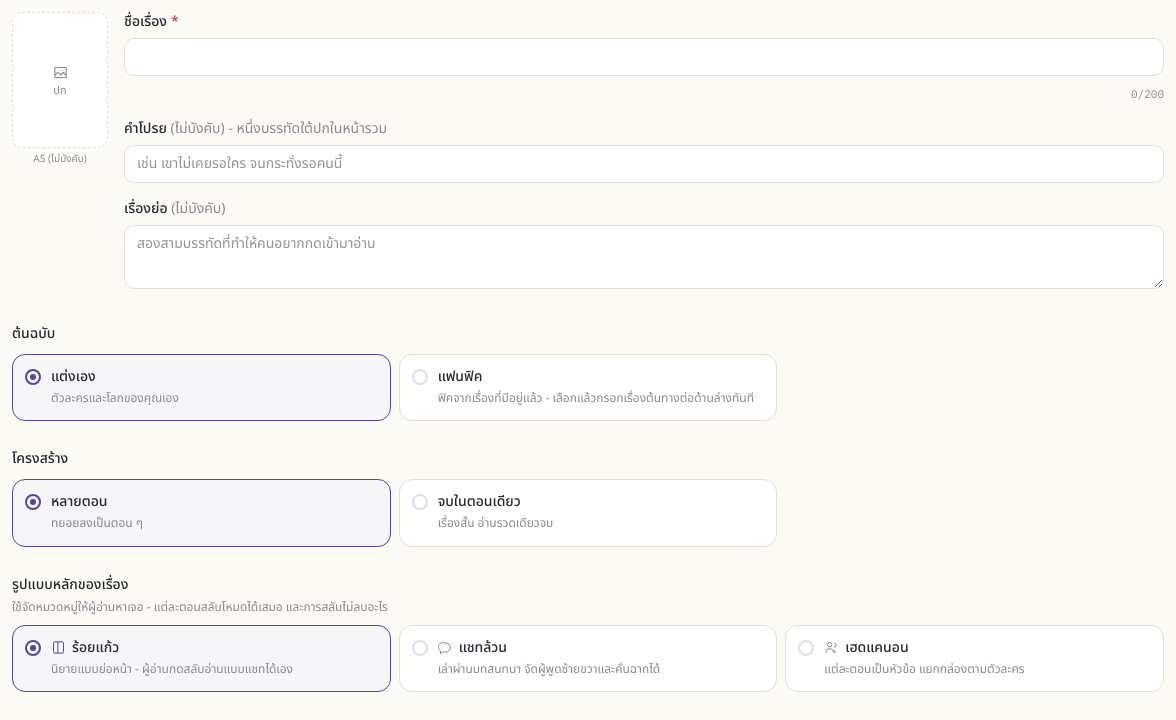
the source of a fanfiction › opens the source and ship questions only for แฟนฟิค
expect the field labelled "เขียนจากเรื่องอะไร" is not shown: met
Click the radio button labelled "แฟนฟิค" at (588, 387), box [399, 354, 777, 421]
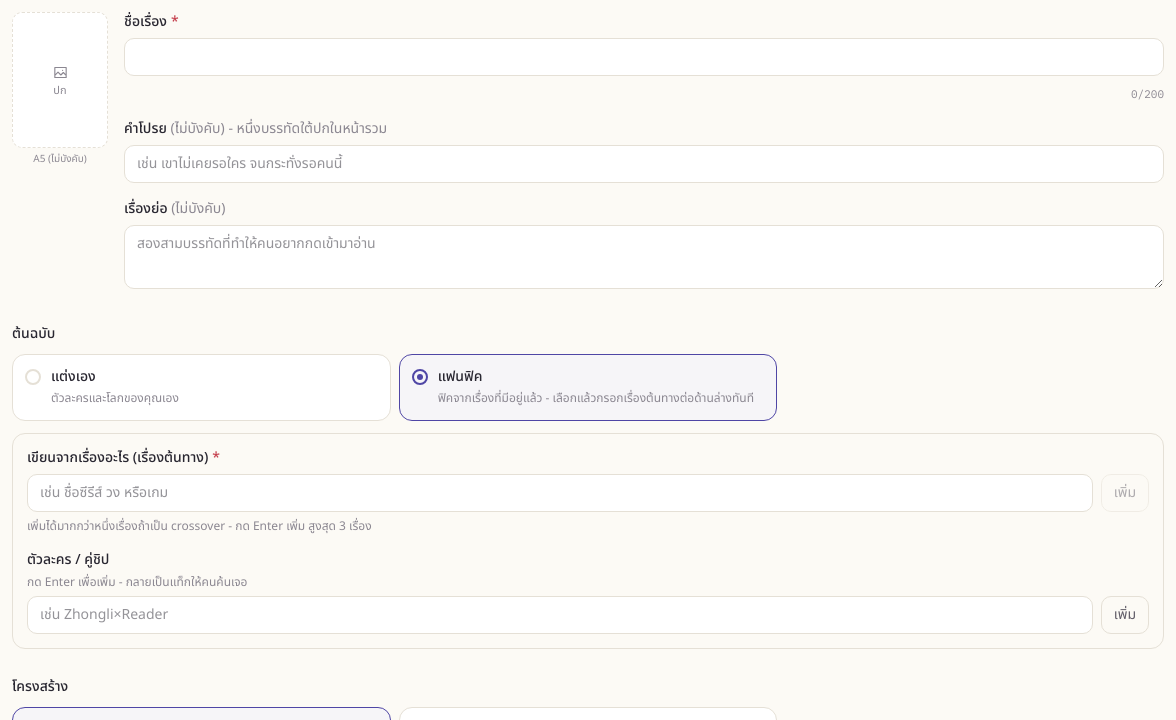
expect the field labelled "เขียนจากเรื่องอะไร (เรื่องต้นทาง)*" is shown: met, box [27, 474, 1093, 512]
expect the field labelled "ตัวละคร / คู่ชิป" is shown: met, box [27, 596, 1093, 634]
